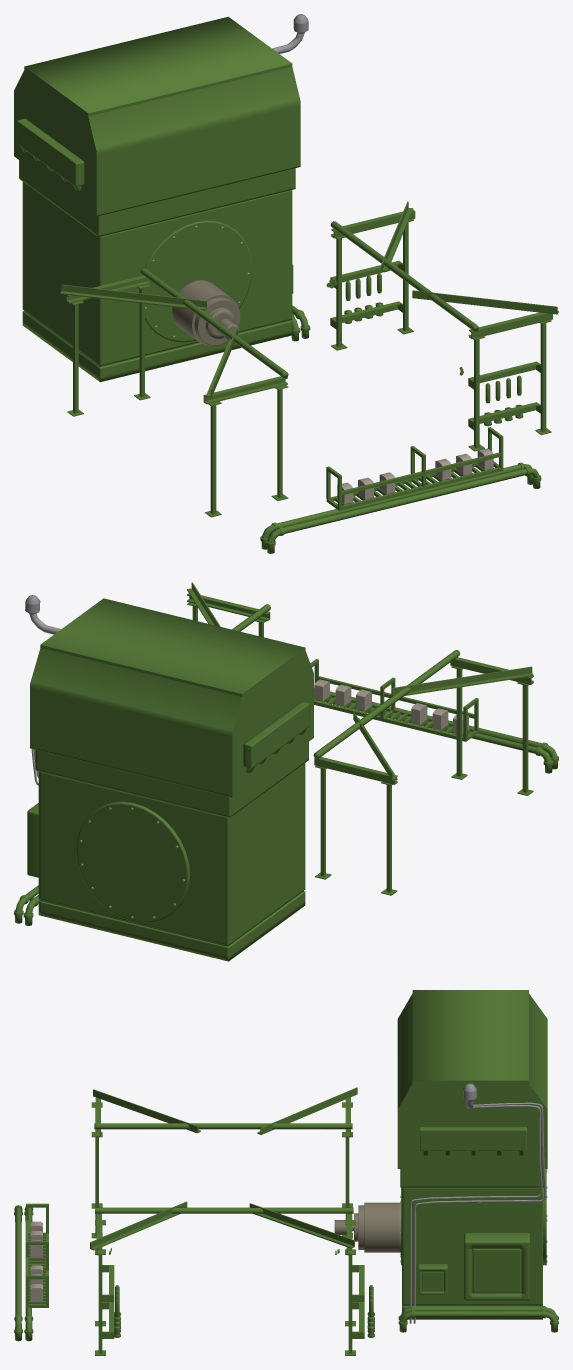
The model's file is Elements01.fbx.
3 renders of one model, top to bottom at view 1: azimuth 30°, elevation 25°; view 2: azimuth 150°, elevation 25°; view 3: azimuth 270°, elevation 25°, orthographic. The views are drawn at different scales.
Parts seen in each view (by area): view 1: Cube.077, Cube.057, Circle.093, Cube.095, Cube.087, Cube.100, Cube.098, right_02.001, Cube.081, right_02.002, Circle, Circle.106 (+5 smaller); view 2: Cube.077, Cube.057, Cube.095, Cube.098, Cube.097, Circle.106, Cube.099, Cube.088, Cube.096, Circle.097, Circle.093, Cube.100; view 3: Cube.077, right_02.002, Circle.106, Circle, Cube.057, Cube.084, Cube.089, Circle.123, Cube.097, Circle.093, Cube.100, Cube.087 (+5 smaller).
Boxes of the visible parts, left/top/right/bottom form: Cube.077: left=14, top=14, right=308, bottom=382; Cube.057: left=326, top=427, right=503, bottom=510; Circle.093: left=283, top=468, right=527, bottom=533; Cube.095: left=205, top=385, right=288, bottom=517; Cube.087: left=468, top=320, right=551, bottom=451; Cube.100: left=60, top=284, right=206, bottom=310; Cube.098: left=67, top=284, right=150, bottom=416; right_02.001: left=194, top=297, right=240, bottom=345; Cube.081: left=331, top=219, right=413, bottom=350; right_02.002: left=172, top=280, right=239, bottom=345; Circle: left=330, top=221, right=478, bottom=331; Circle.106: left=140, top=268, right=288, bottom=378; Cube.077: left=25, top=595, right=313, bottom=961; Cube.057: left=310, top=659, right=478, bottom=741; Cube.095: left=451, top=666, right=533, bottom=795; Cube.098: left=315, top=765, right=397, bottom=895; Cube.097: left=392, top=666, right=533, bottom=695; Circle.106: left=313, top=650, right=460, bottom=758; Cube.099: left=314, top=757, right=397, bottom=784; Cube.088: left=187, top=593, right=270, bottom=621; Cube.096: left=450, top=657, right=533, bottom=684; Circle.097: left=314, top=697, right=536, bottom=753; Circle.093: left=314, top=688, right=542, bottom=747; Cube.100: left=353, top=712, right=397, bottom=780; Cube.077: left=397, top=990, right=547, bottom=1323; right_02.002: left=364, top=1202, right=400, bottom=1252; Circle.106: left=94, top=1123, right=352, bottom=1129; Circle: left=95, top=1207, right=353, bottom=1213; Cube.057: left=26, top=1203, right=48, bottom=1307; Cube.084: left=249, top=1203, right=354, bottom=1248; Cube.089: left=90, top=1201, right=187, bottom=1250; Circle.123: left=415, top=1311, right=542, bottom=1317; Cube.097: left=93, top=1089, right=200, bottom=1133; Circle.093: left=15, top=1207, right=21, bottom=1315; Cube.100: left=257, top=1087, right=357, bottom=1134; Cube.087: left=95, top=1220, right=105, bottom=1355.
Size of the model in its own units: 10146 by 7816 by 14814.
